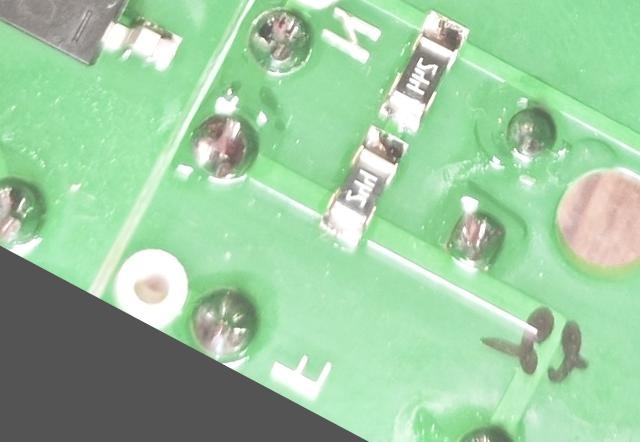chip-resistor: (371, 4, 474, 137), (313, 120, 414, 251)
